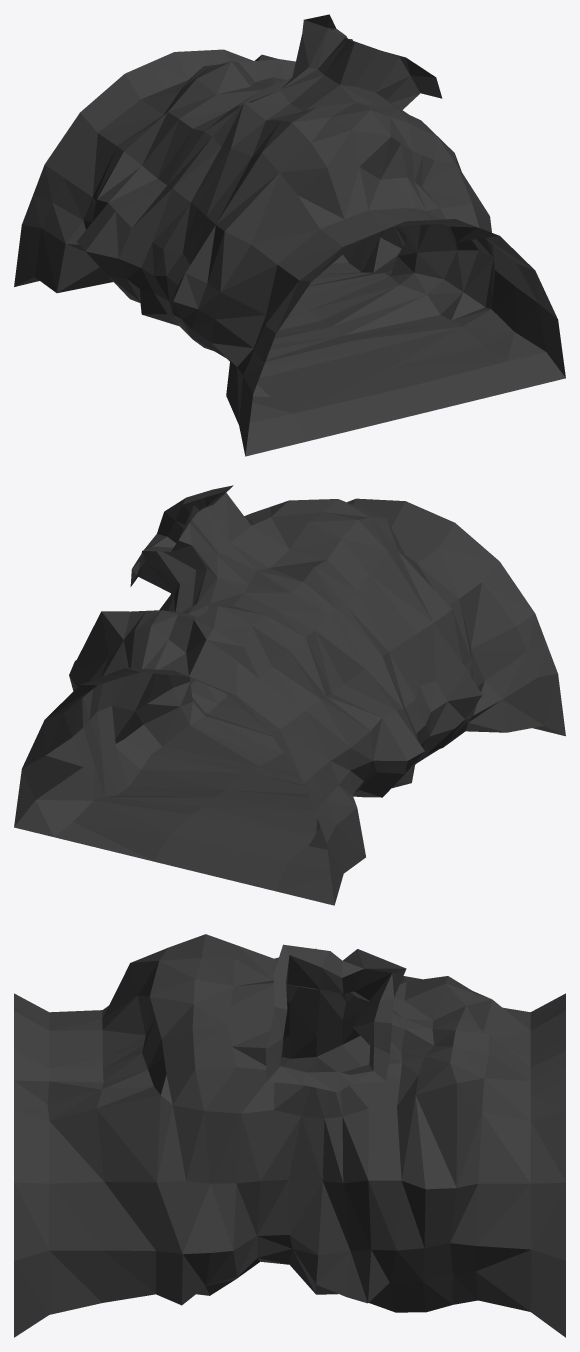
Rendered from Cave_2_LOD_1.fbx.
3 renders of one model, top to bottom at view 1: azimuth 30°, elevation 25°; view 2: azimuth 150°, elevation 25°; view 3: azimuth 270°, elevation 25°, orthographic. The views are drawn at different scales.
Parts seen in each view (by area): view 1: polySurface1211; view 2: polySurface1211; view 3: polySurface1211.
Boxes of the visible parts, x1,y1,x2,y2 form: polySurface1211: (14,14,565,456); polySurface1211: (14,485,565,905); polySurface1211: (14,934,565,1337).
Bounding box in the file's own units: 8.5 × 6.93 × 10.32.
